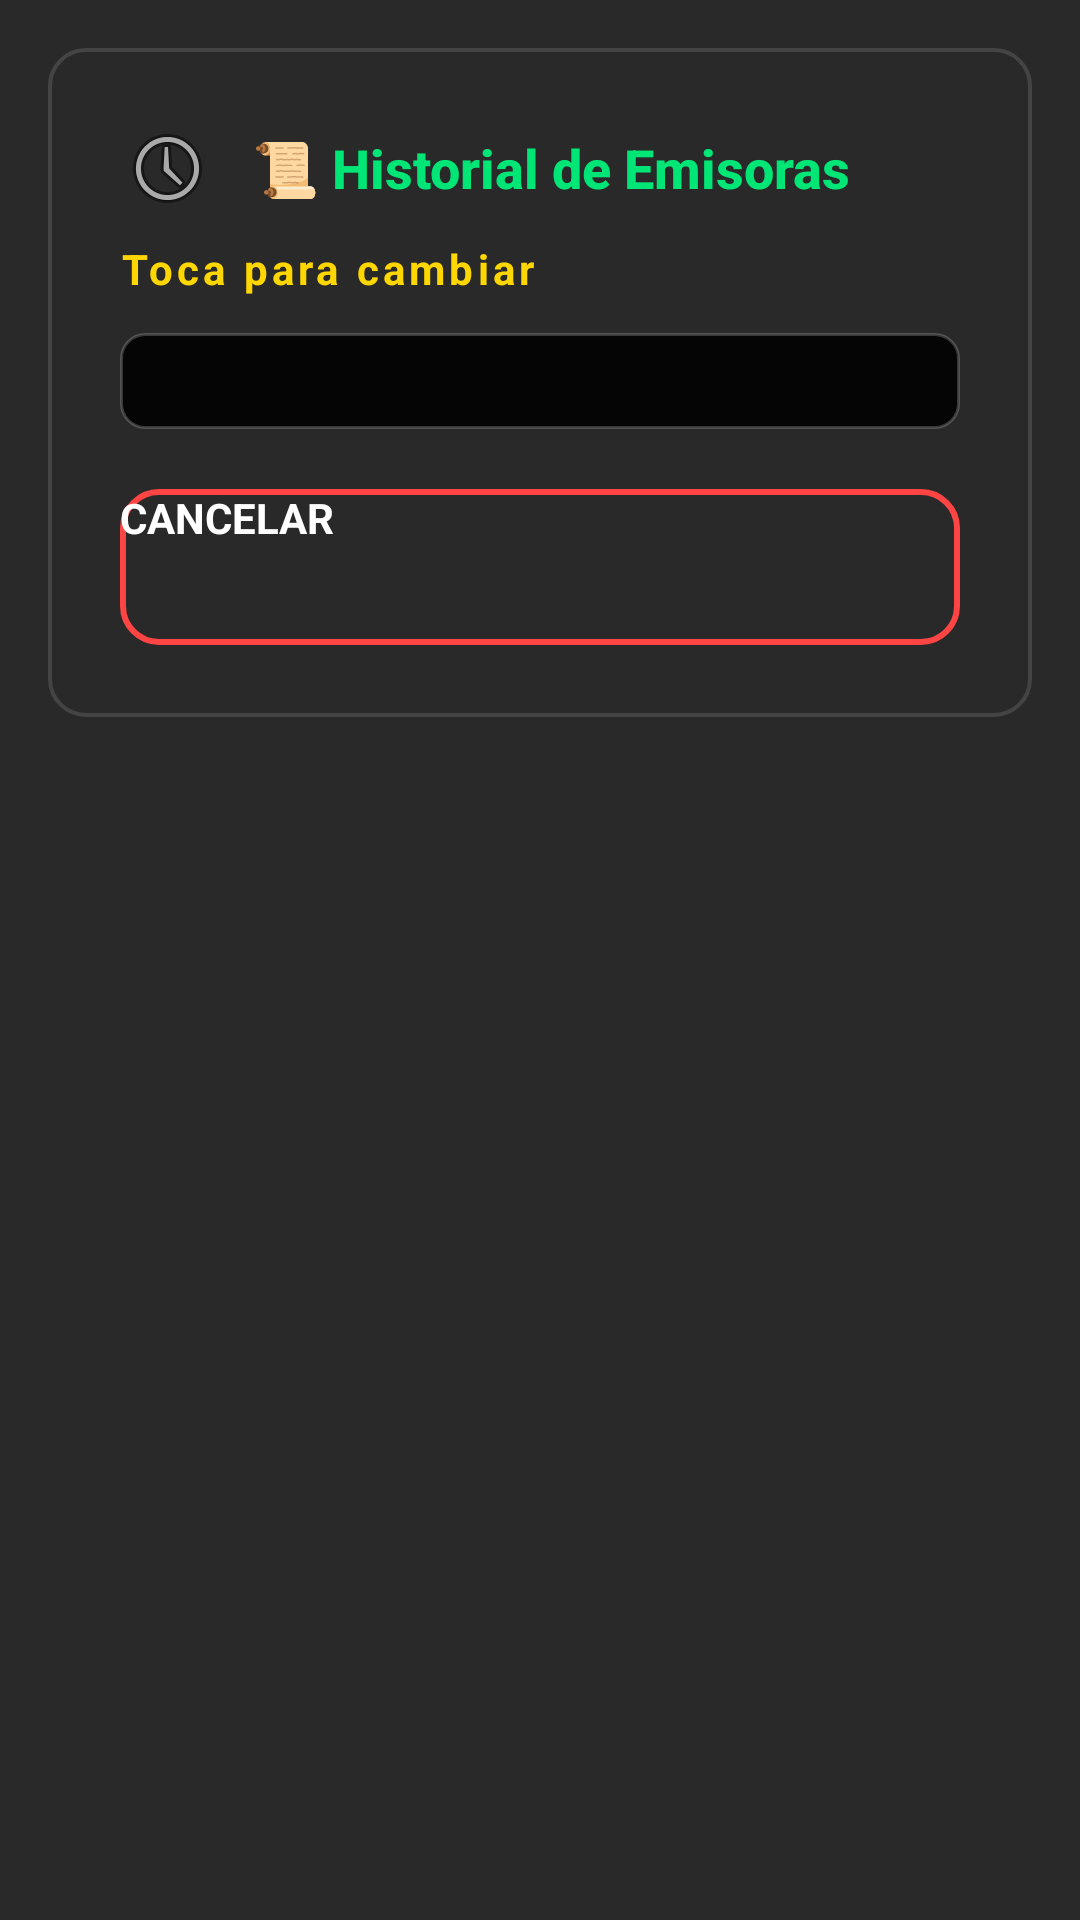

Named icons in this screenshot (1080*1920) and their centers, (x=x, y=y):
recent history: (x=167, y=168)
